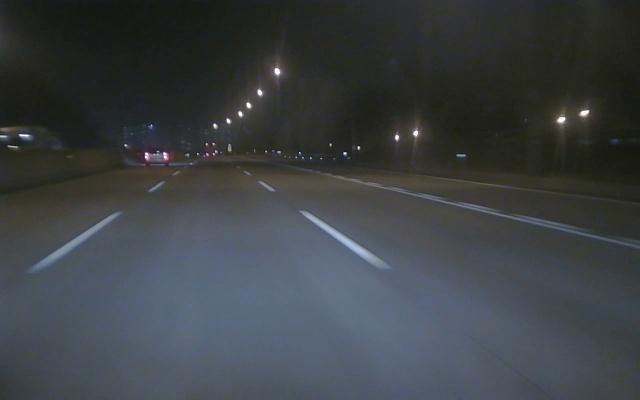lane: (321, 173, 638, 250), (3, 182, 160, 291), (253, 178, 400, 273)
